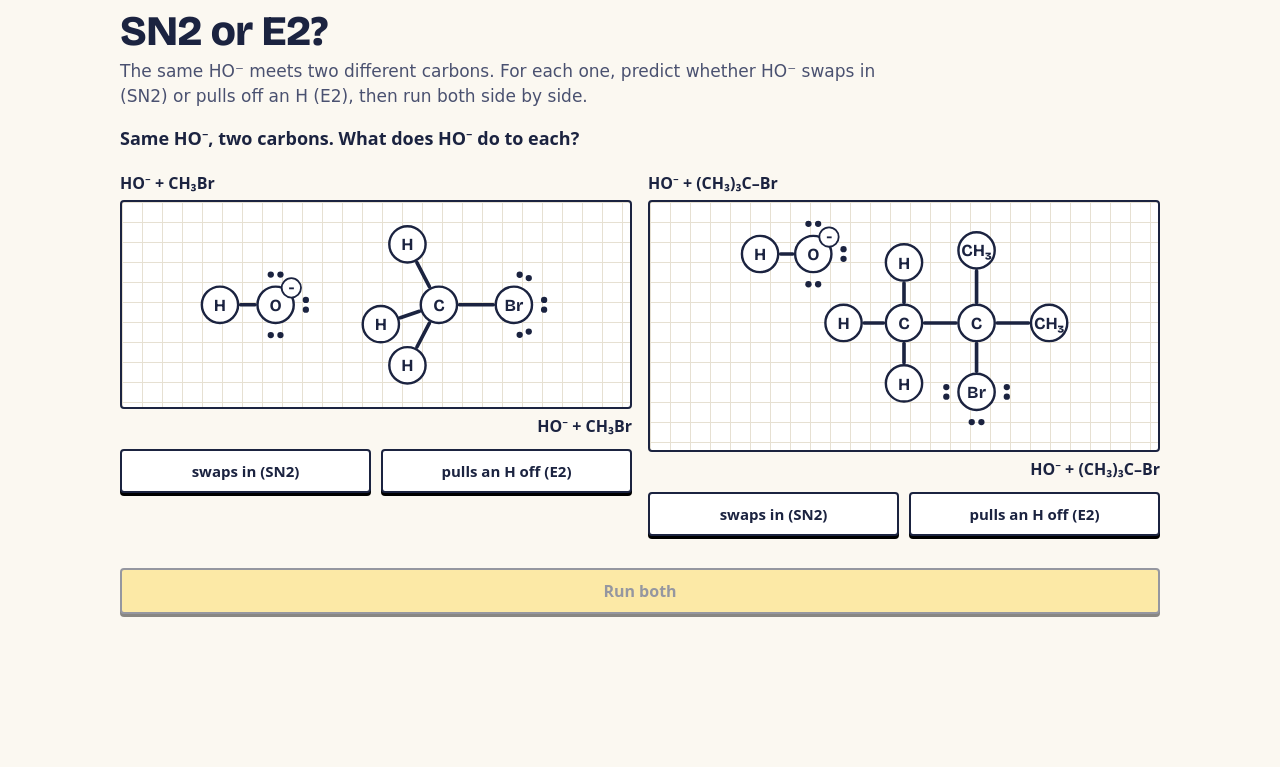
Scenario: orgo session › Mechanisms > SN2 vs E2: predict each path, both run, the wrong pick is named
The width and height of the screenshot is (1280, 767).
Expected: the button "Run both" is disabled, [120,568,1160,614]
Click the 1st button "swaps in (SN2)": point(246, 471) [120,449,371,493]
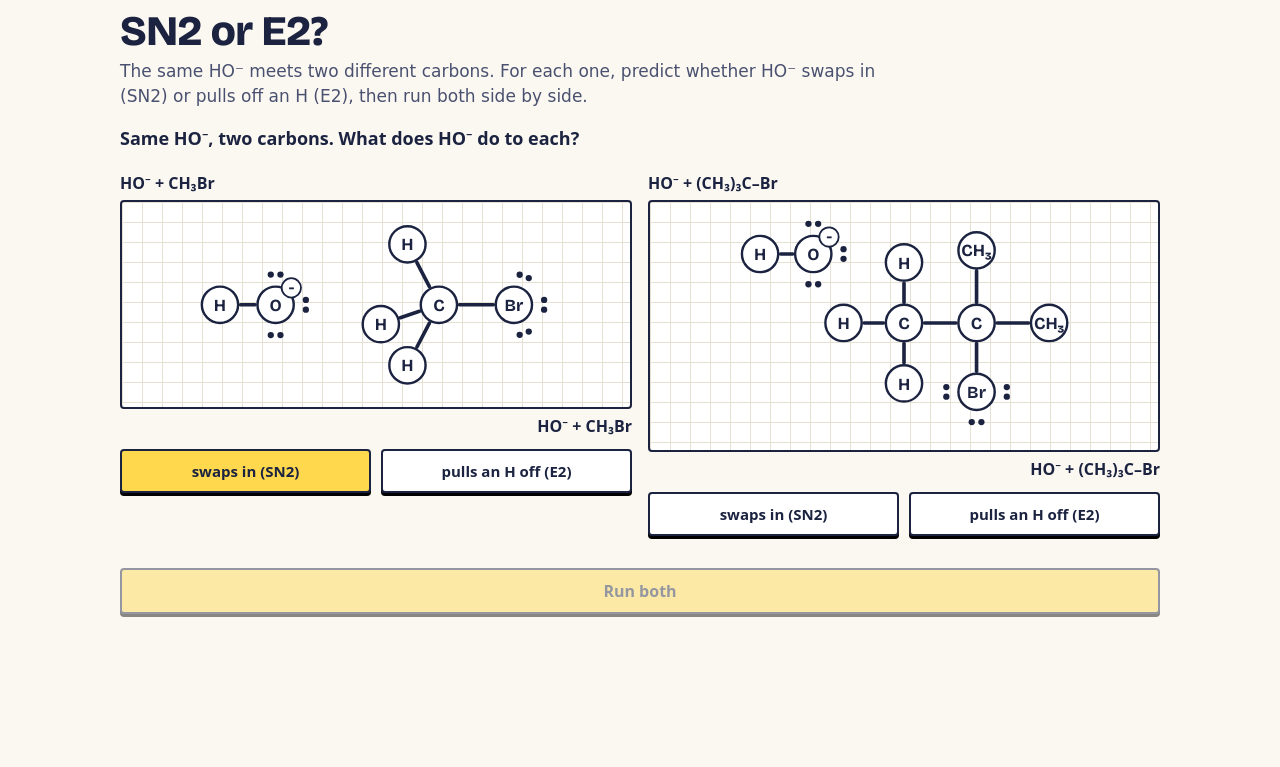
Click the 2nd button "swaps in (SN2)": point(774, 514) [648,492,899,536]
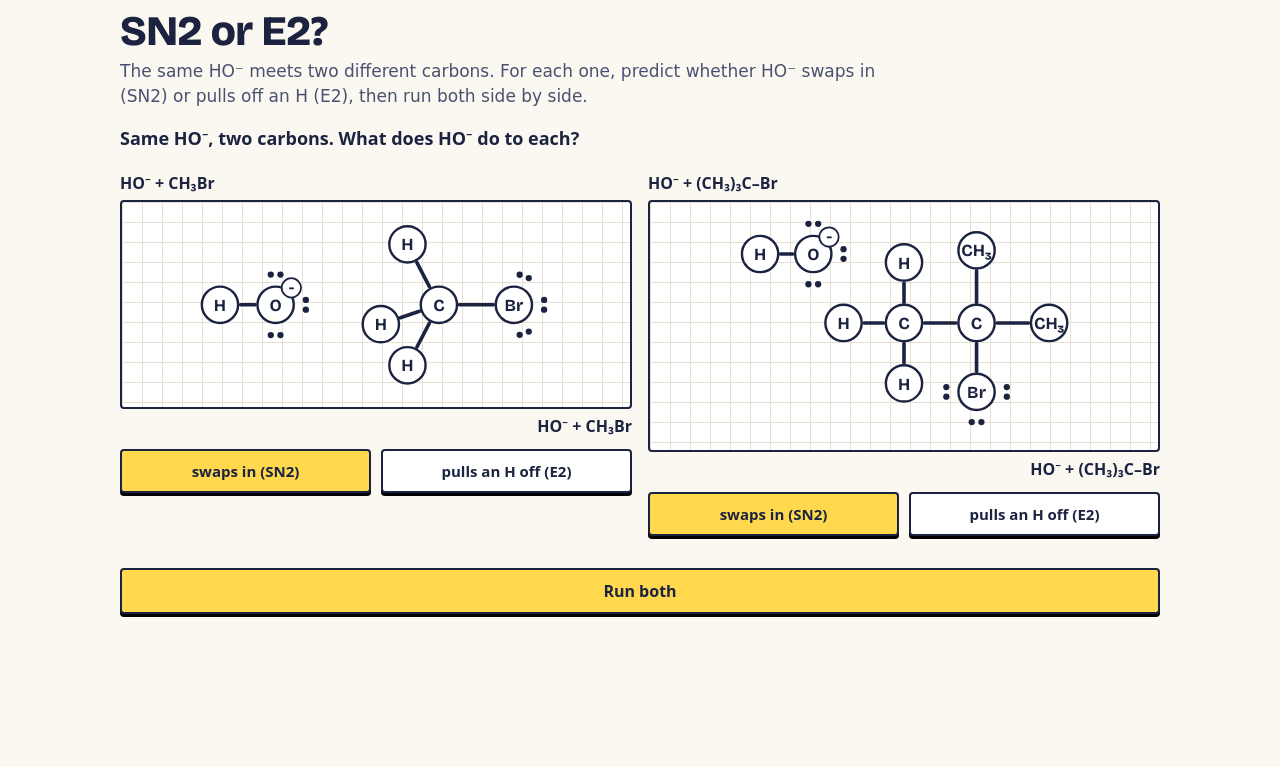
Click the button "Run both": point(640, 590) [120,568,1160,614]
Wait 3400 ms
(page scrolled)
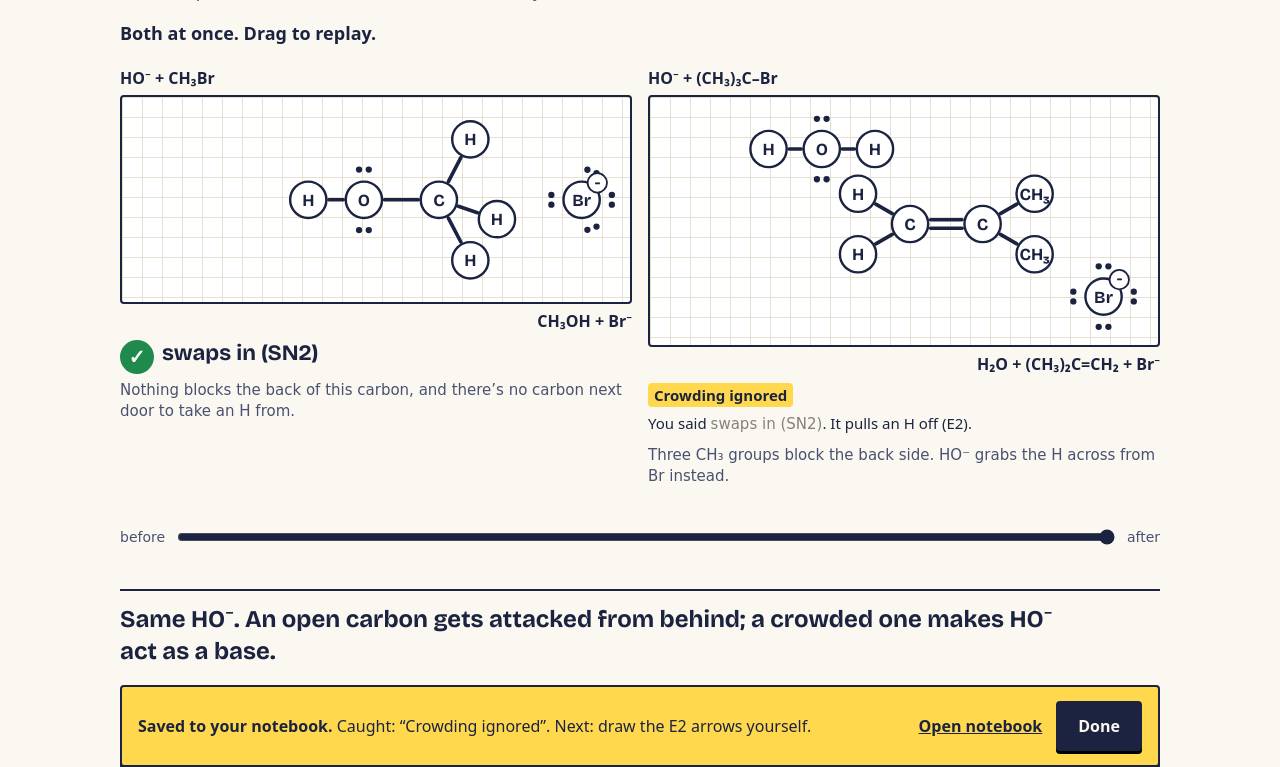
Result: the text "Crowding ignored" is shown at [648,382,793,406]
Result: the text "CH₃OH + Br⁻" is shown at [537,310,632,332]
Result: the text "H₂O + (CH₃)₂C=CH₂ + Br⁻" is shown at [977,352,1160,374]
